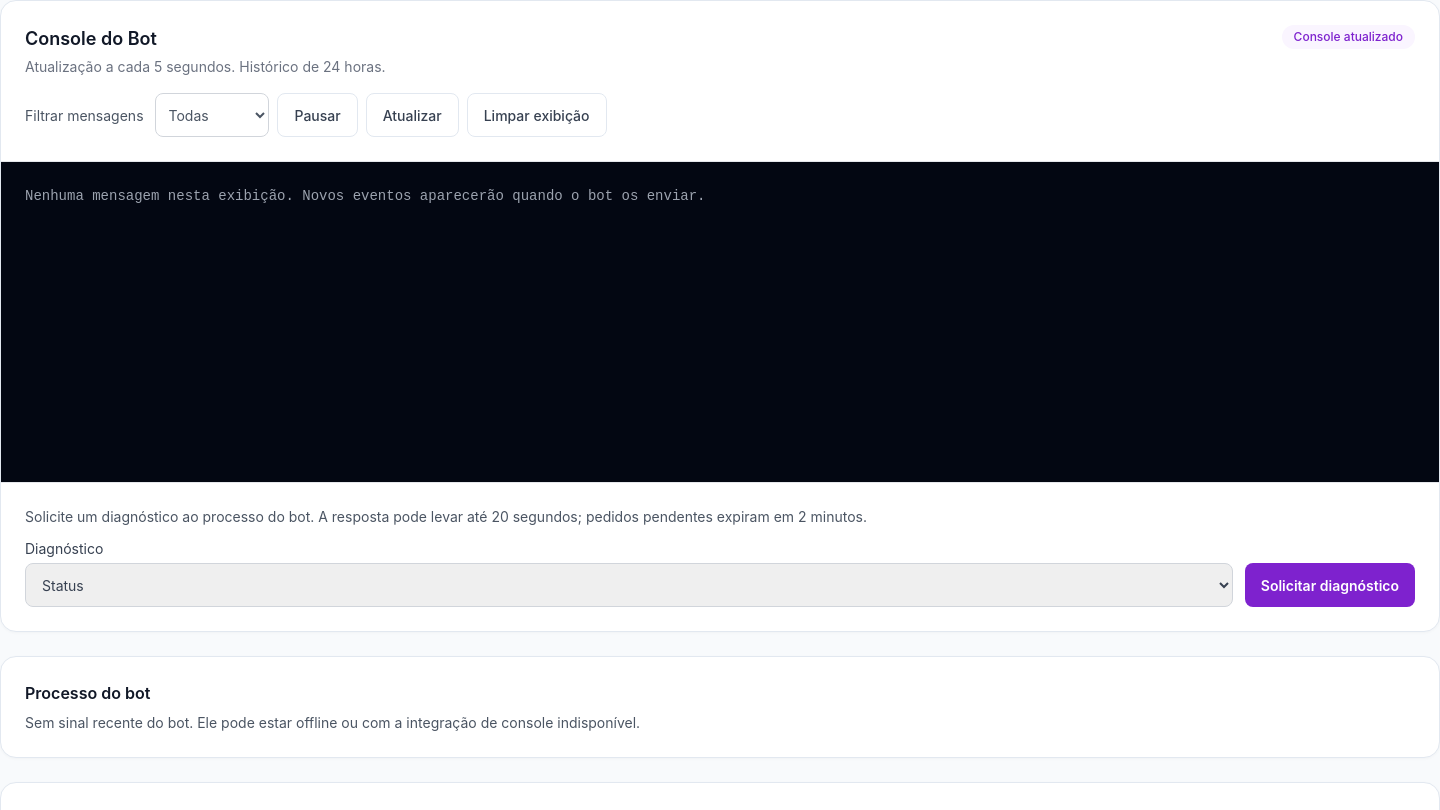
Test: aborts pending read when paused and disables diagnostics without a live bot
Expected: the text "Sem sinal recente" is shown, [25,714,640,731]
Expected: the button "Solicitar diagnóstico" is disabled, [1245,563,1415,607]
Click the button "Pausar" at x=318, y=115, box [278,93,358,137]
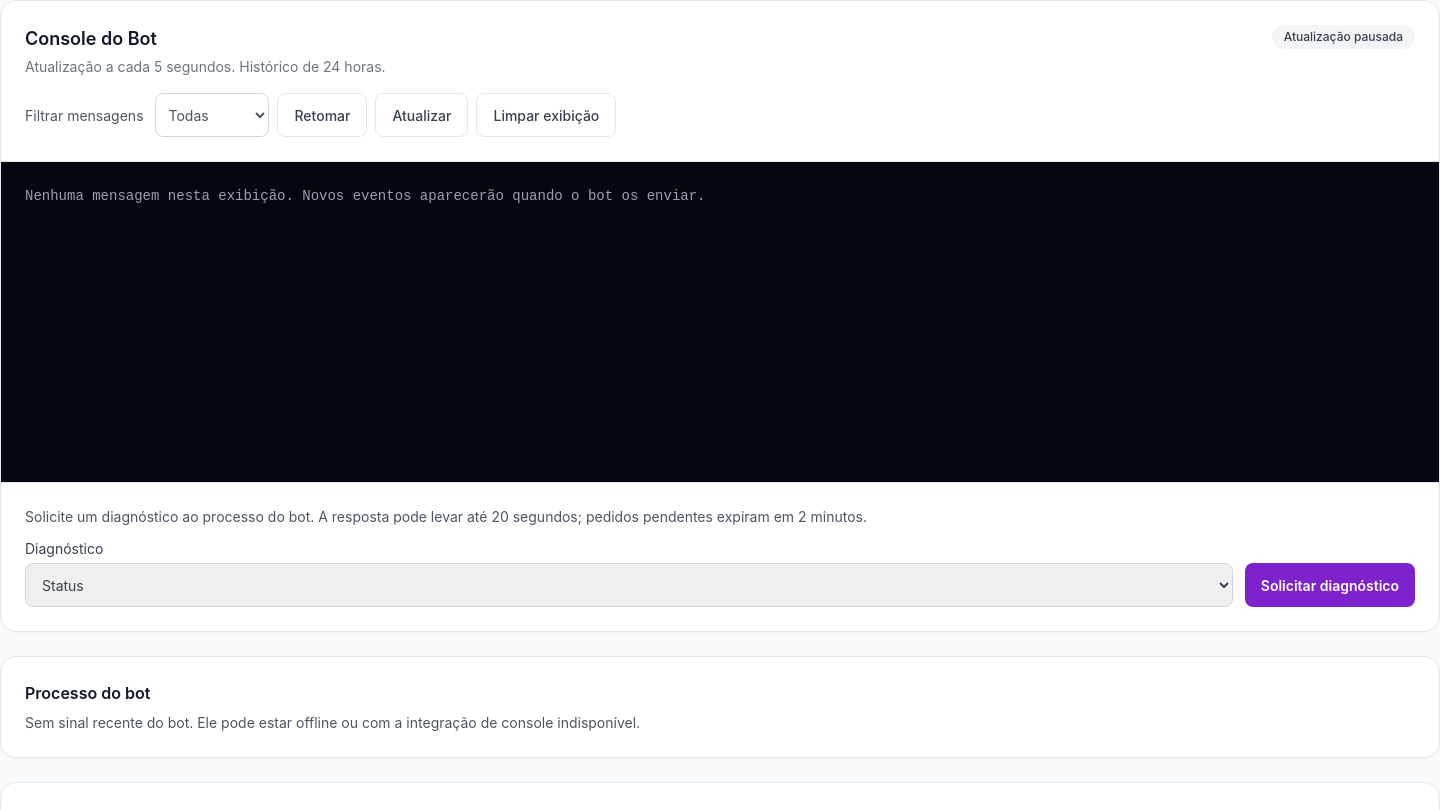
Now the text "Atualização pausada" is shown, box [1272,25,1415,49]
